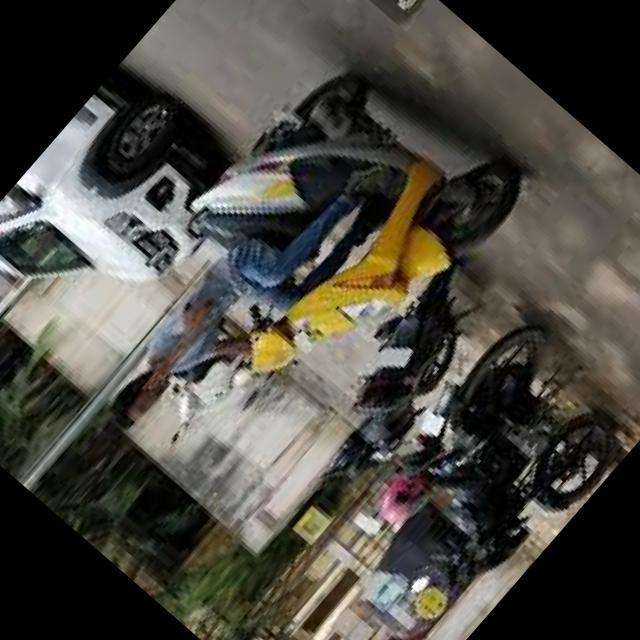USING_MOBILE: (112, 331, 192, 415)
